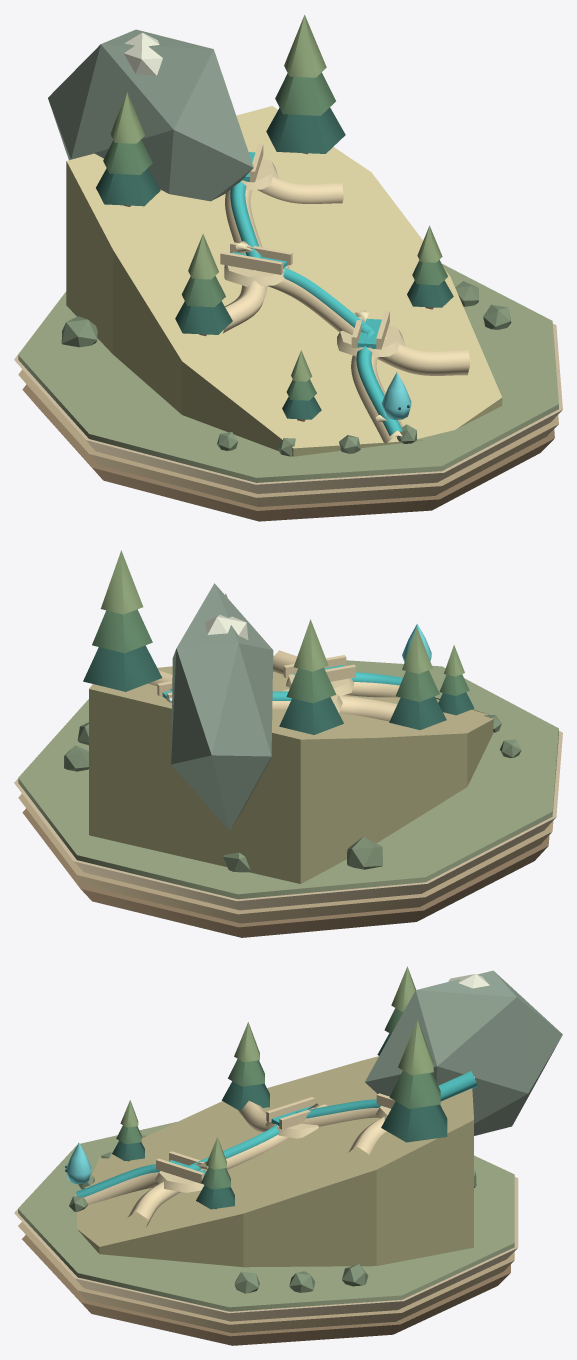
File: huanglong-flow.glb
3 views of the same model, one above another, from view 1: azimuth 30°, elevation 25°; view 2: azimuth 150°, elevation 25°; view 3: azimuth 270°, elevation 25° (orthographic). The views are drawn at different scales.
Visible parts, largest first — view 1: 01 • Forest slope and branching watercourse, Junction 3, The travelling droplet, Junction 2; view 2: 01 • Forest slope and branching watercourse; view 3: 01 • Forest slope and branching watercourse, The travelling droplet, Junction 3, Junction 2.
Boxes of the visible parts, x1,y1,x2,y2 form: 01 • Forest slope and branching watercourse: (14, 15, 562, 521); Junction 3: (337, 325, 405, 357); The travelling droplet: (381, 372, 411, 419); Junction 2: (224, 265, 289, 286); 01 • Forest slope and branching watercourse: (14, 550, 562, 937); 01 • Forest slope and branching watercourse: (14, 966, 562, 1345); The travelling droplet: (65, 1143, 91, 1184); Junction 3: (155, 1171, 204, 1192); Junction 2: (265, 1122, 318, 1138).
Bounding box in the file's own units: 9.24 × 5.88 × 10.7.
